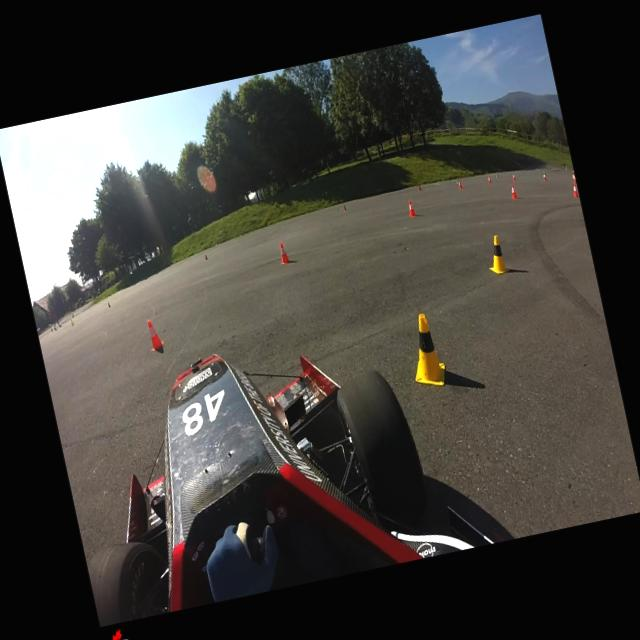orange_cone: (144, 318, 165, 351), (276, 240, 290, 264), (406, 198, 416, 218), (570, 181, 579, 198), (510, 183, 518, 199), (571, 174, 576, 182), (542, 172, 546, 182), (487, 175, 491, 184), (458, 180, 462, 188), (512, 172, 516, 180)
unknown_cone: (417, 183, 421, 191), (342, 204, 347, 210), (204, 254, 208, 260), (70, 319, 74, 325), (495, 171, 498, 178), (456, 176, 459, 182), (108, 302, 110, 306)
yellow_cone: (402, 311, 449, 392), (482, 233, 508, 276)
